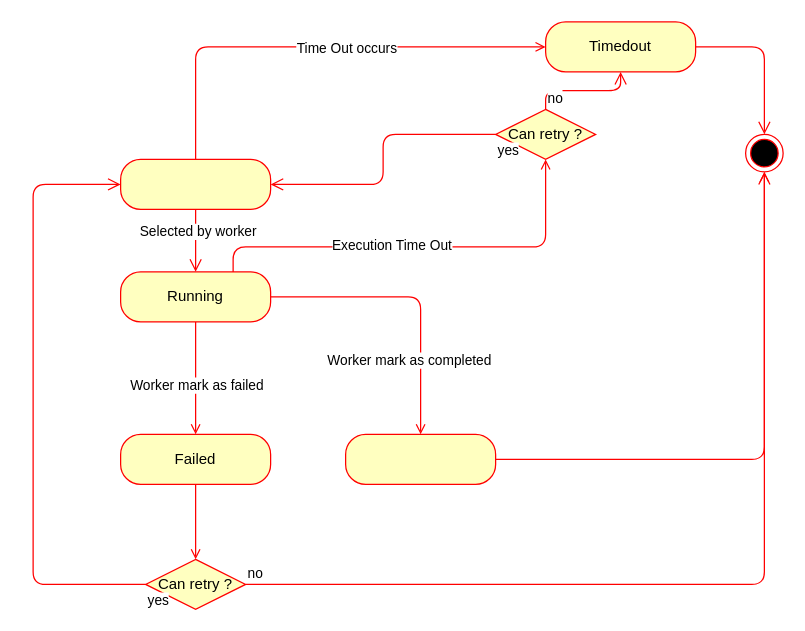
This 805x631 diagram has some shape labels left out. Here are the shapes that lost their labels. From the top down, the centre of each, then its label:
At (x=195, y=183): "Pending".
At (x=420, y=458): "Completed".
